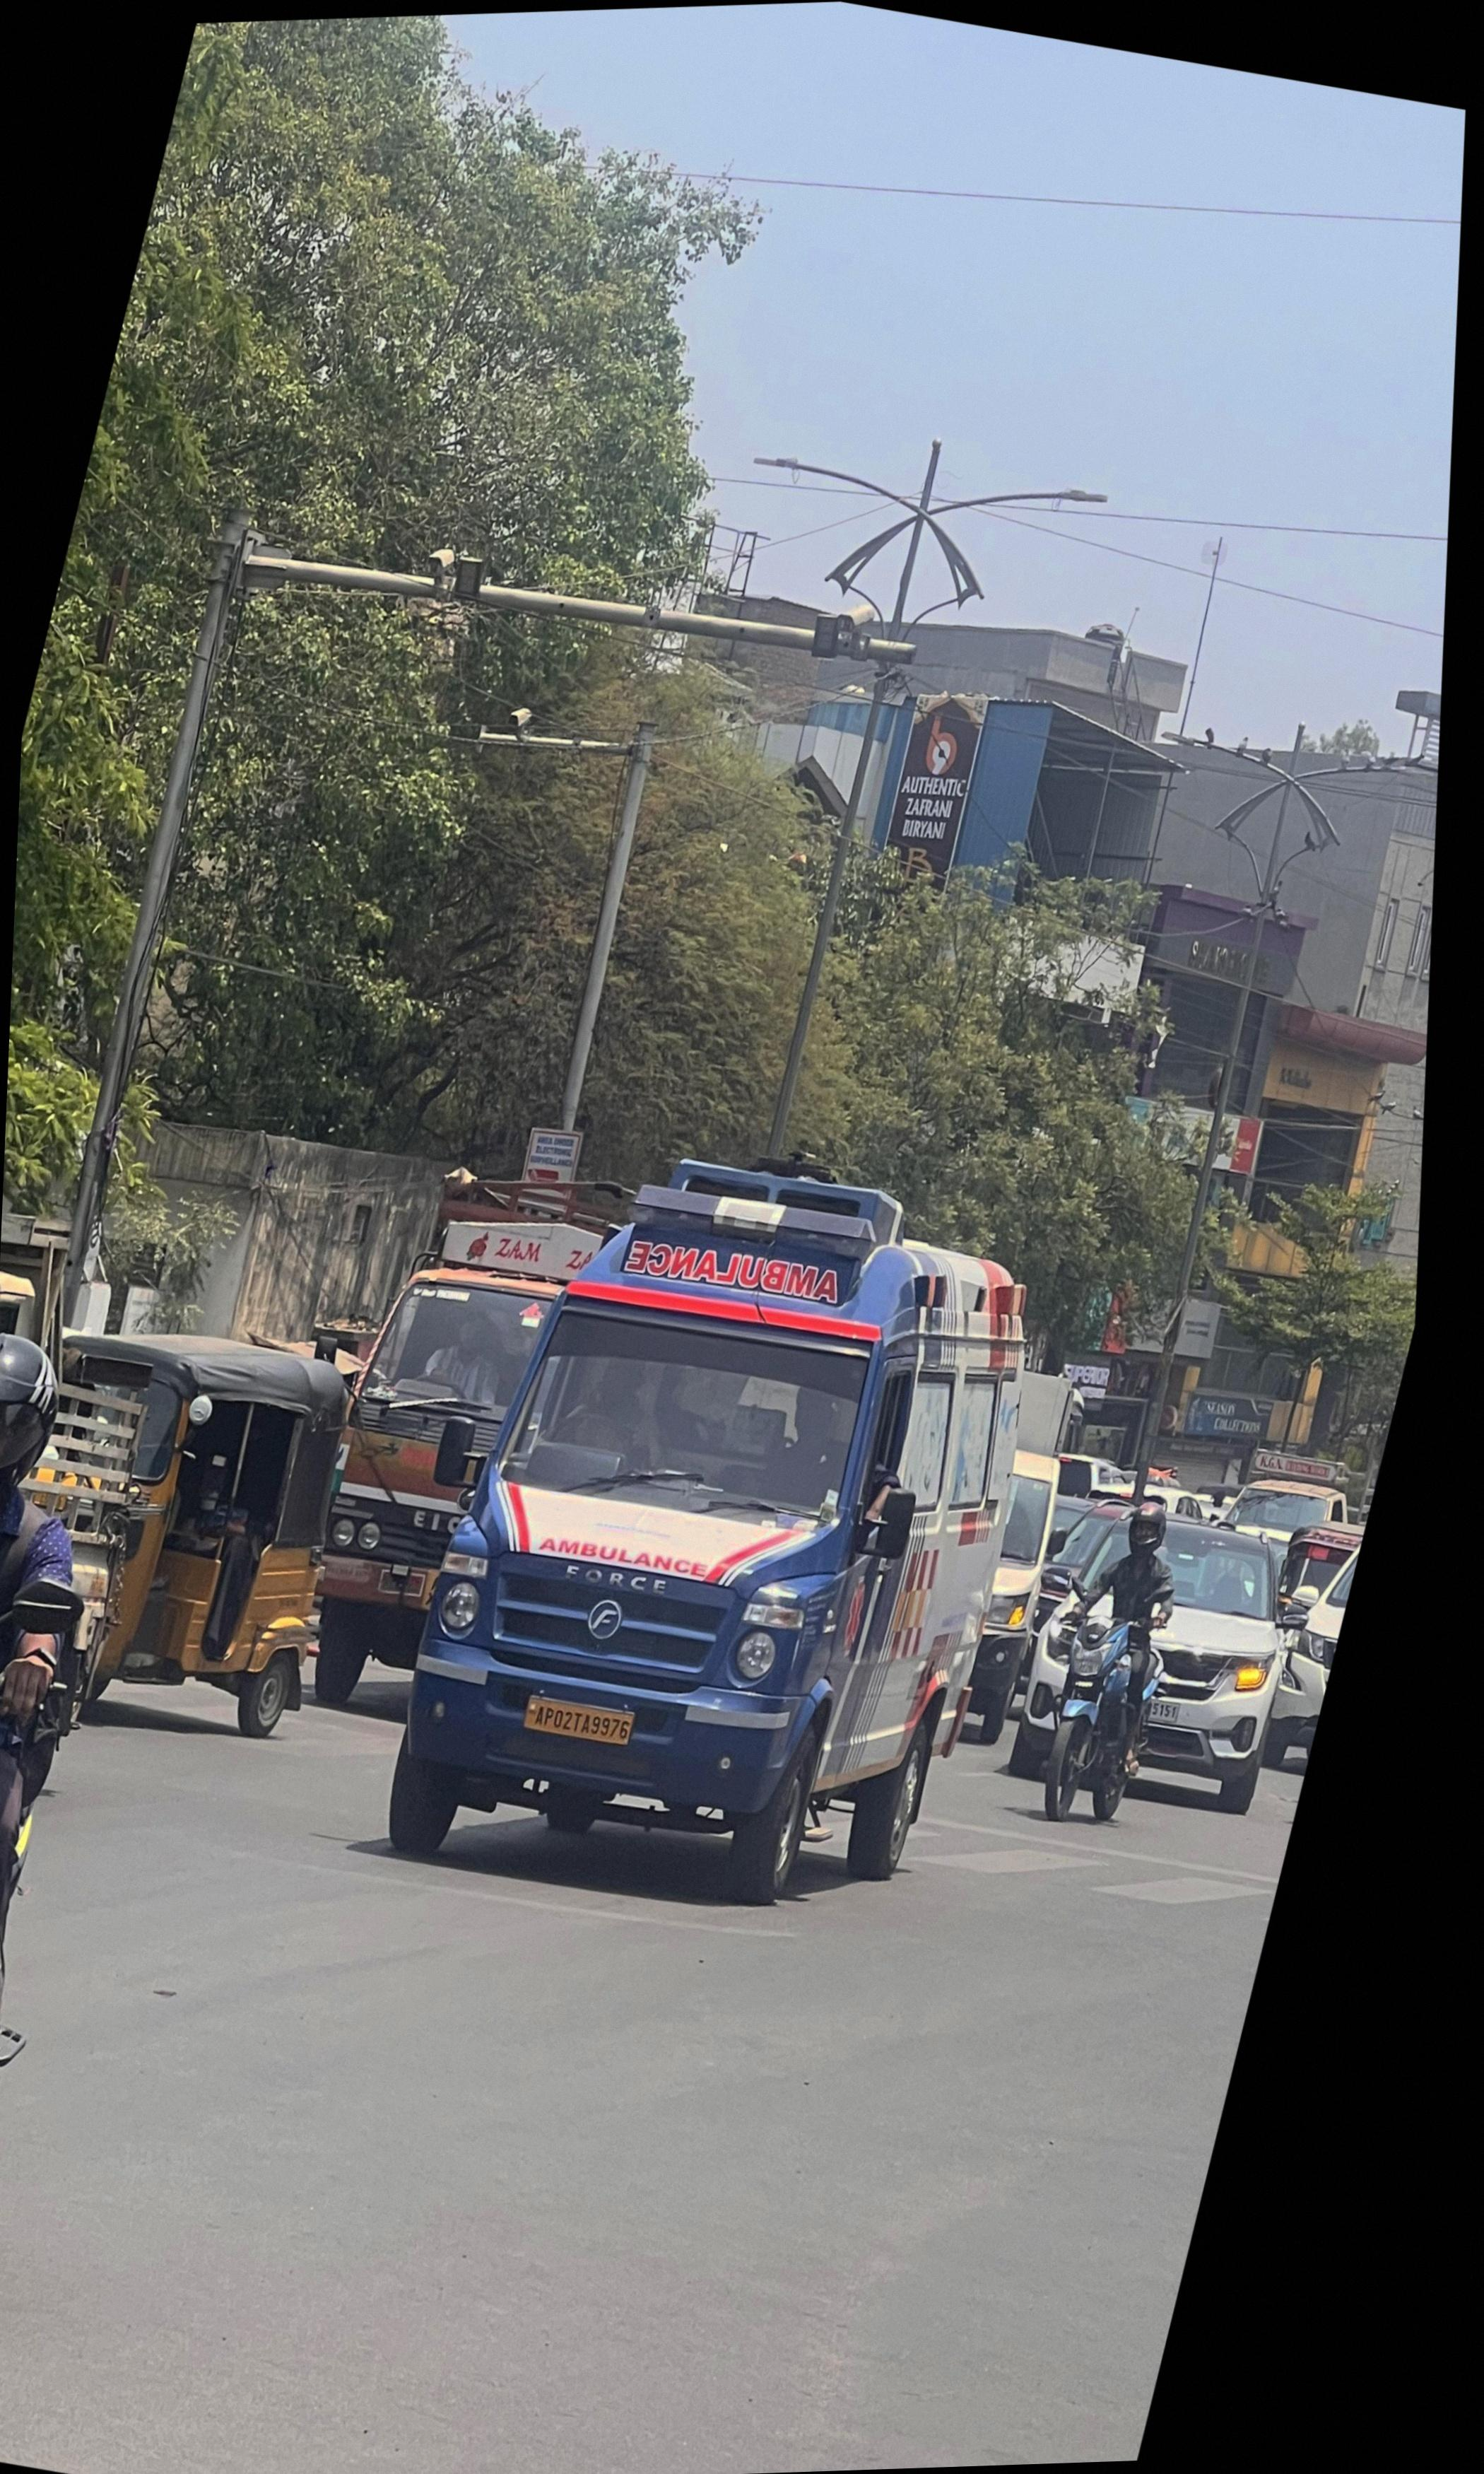ambulance: (389, 1161, 1026, 1907)
